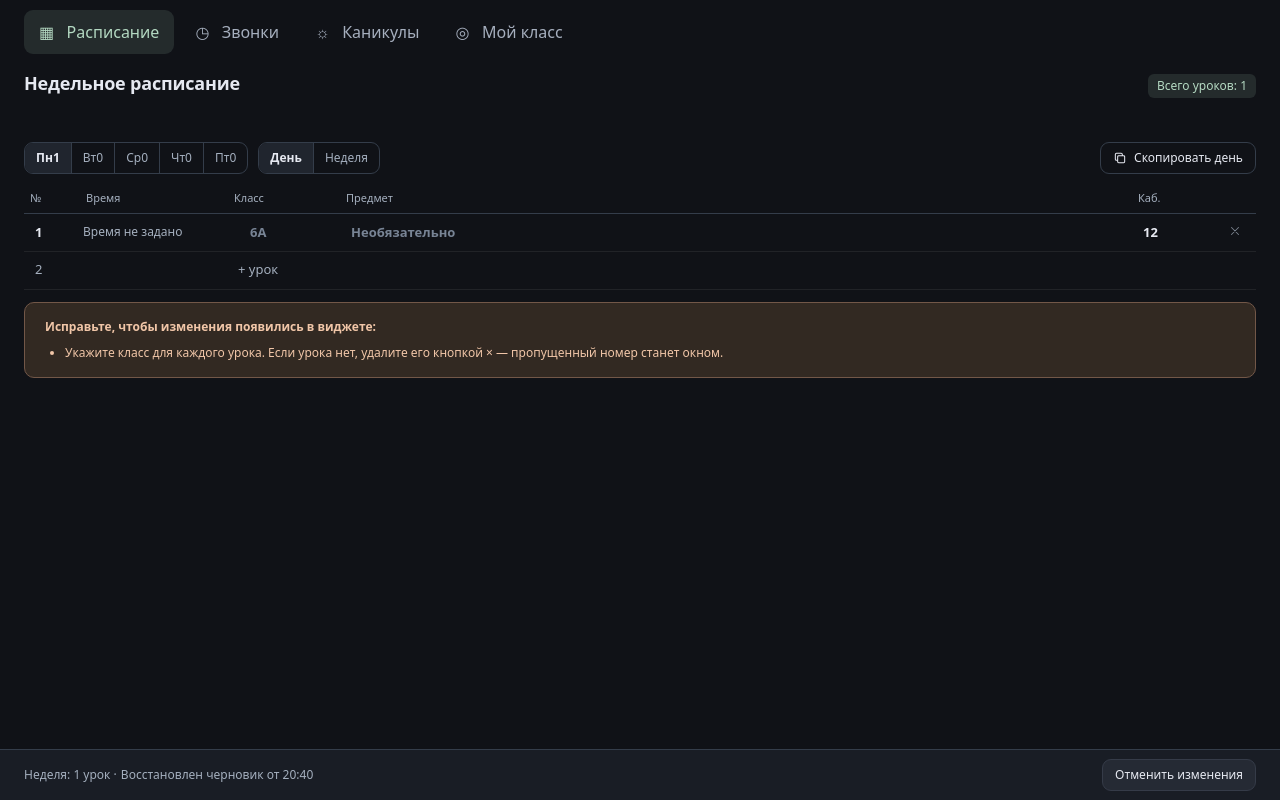
Test: черновик возвращает только правки расписания: заметки и настройки после него не пропадают
Check: the text "Восстановлен черновик от 20:40" is shown, box [121,766,313,783]
Type "5А" into the field named "Класс *".
click(290, 232); type("5А")  # box [242,217,337,247]
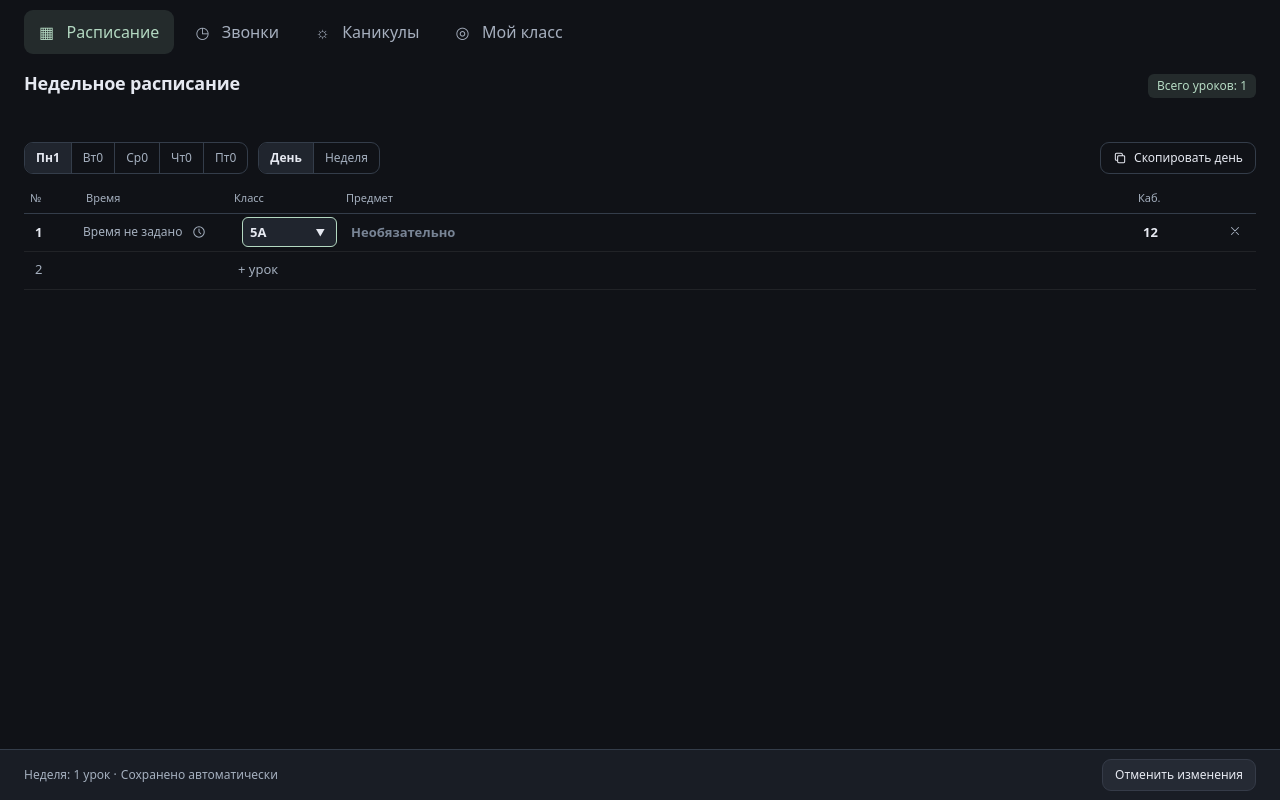
Check: the text "Сохранено автоматически" is shown, box [121,766,278,783]
